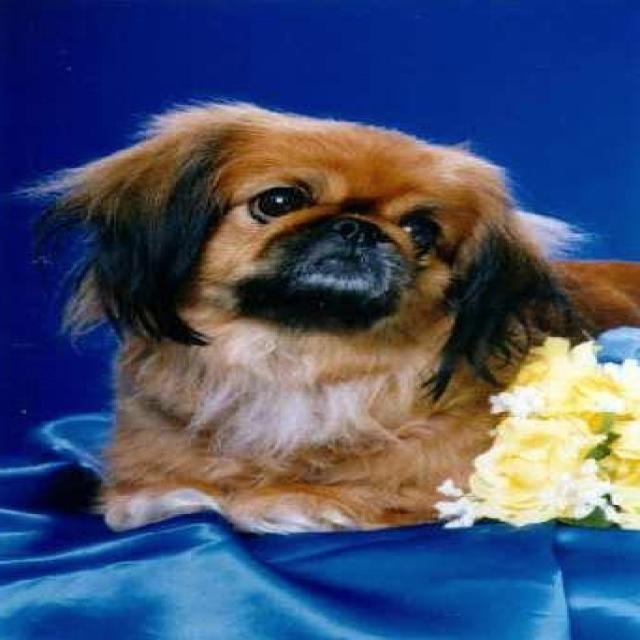pekinese: (15, 95, 640, 535)
